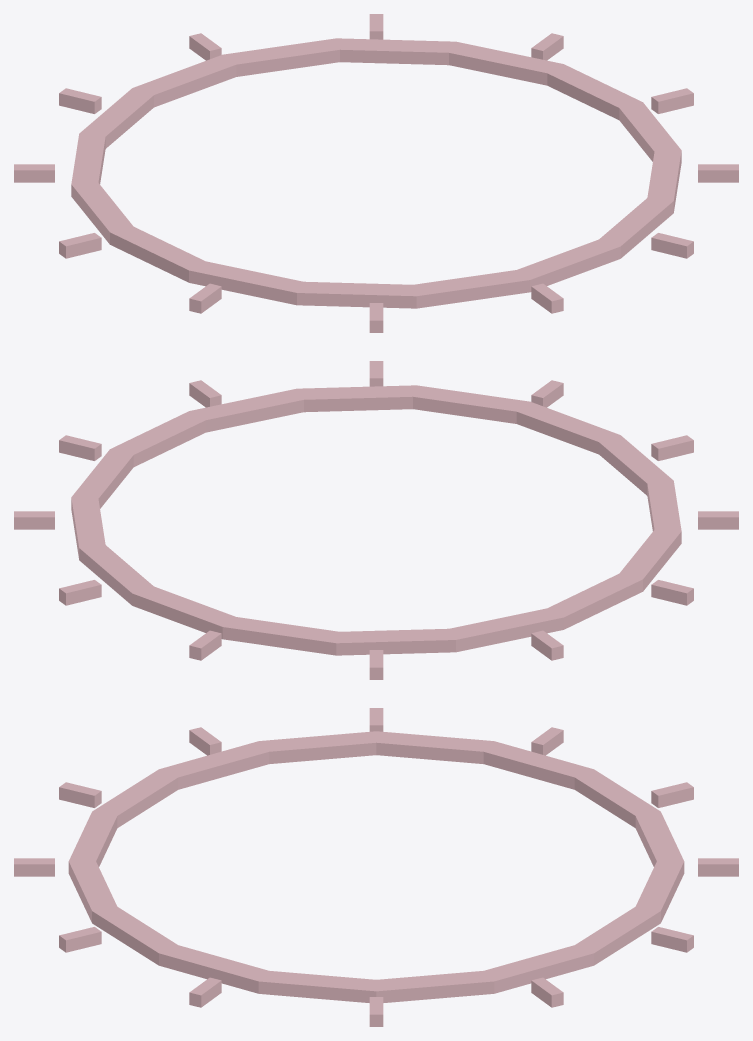
File: fx_wait_ring_old.glb
The picture shows the model from 3 angles, top to bottom: view 1: azimuth 30°, elevation 25°; view 2: azimuth 150°, elevation 25°; view 3: azimuth 270°, elevation 25°; orthographic projection.
Visible parts, largest first — view 1: fx_wait_ring_old; view 2: fx_wait_ring_old; view 3: fx_wait_ring_old.
Boxes of the visible parts, x1,y1,x2,y2 form: fx_wait_ring_old: (14,14,738,332); fx_wait_ring_old: (14,361,738,679); fx_wait_ring_old: (14,708,738,1026).
Bounding box in the file's own units: 2.12 × 0.04 × 2.12.
